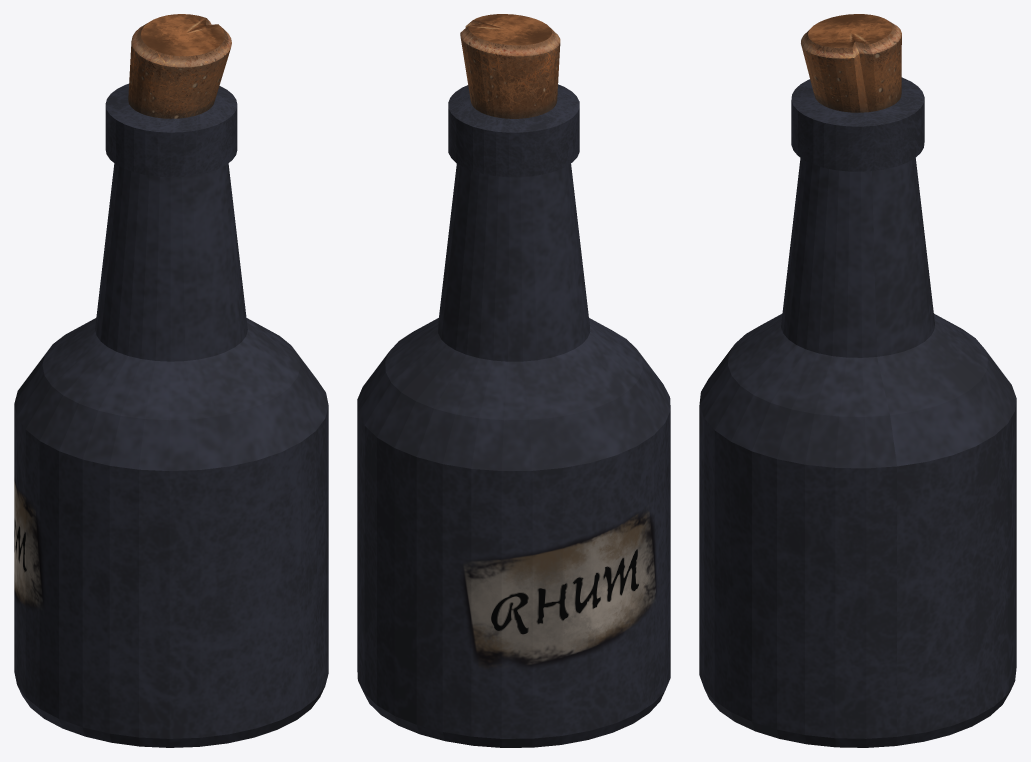
Rendered from Rhum.fbx.
3 views of the same model, side by side, from view 1: azimuth 30°, elevation 25°; view 2: azimuth 150°, elevation 25°; view 3: azimuth 270°, elevation 25° (orthographic).
Visible parts, largest first — view 1: Rhum; view 2: Rhum; view 3: Rhum.
Boxes of the visible parts, <box> form: Rhum: <box>14,14,328,747</box>; Rhum: <box>357,14,670,747</box>; Rhum: <box>699,14,1016,747</box>.
Bounding box in the file's own units: 399 × 923 × 399.
1 material, 1 textured.
